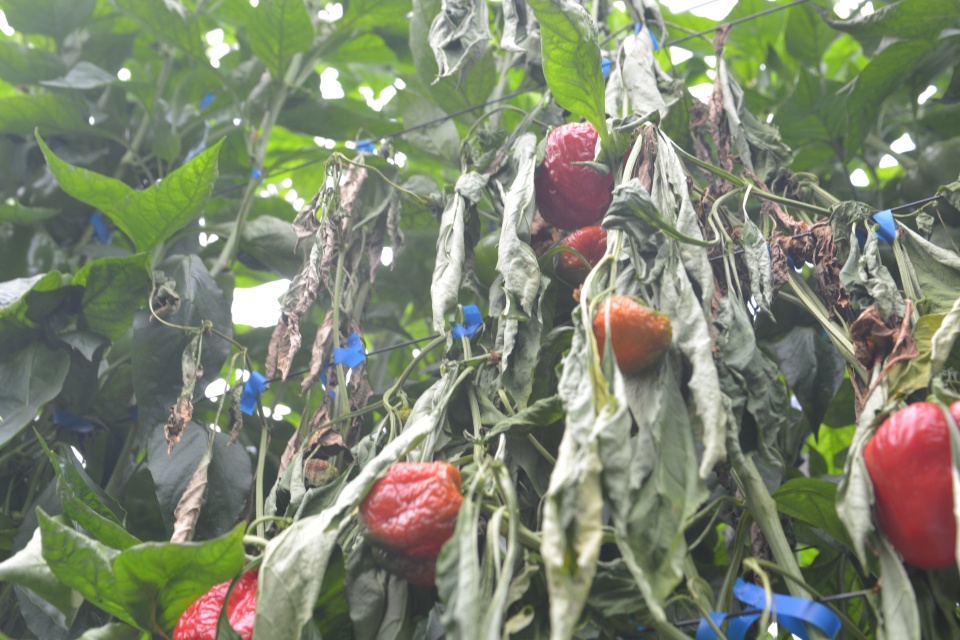fruit: (860, 396, 960, 570), (357, 460, 465, 588), (536, 119, 616, 232), (591, 291, 674, 380), (0, 226, 72, 322), (170, 564, 258, 640), (896, 132, 960, 229), (553, 224, 608, 277), (471, 226, 502, 302)
